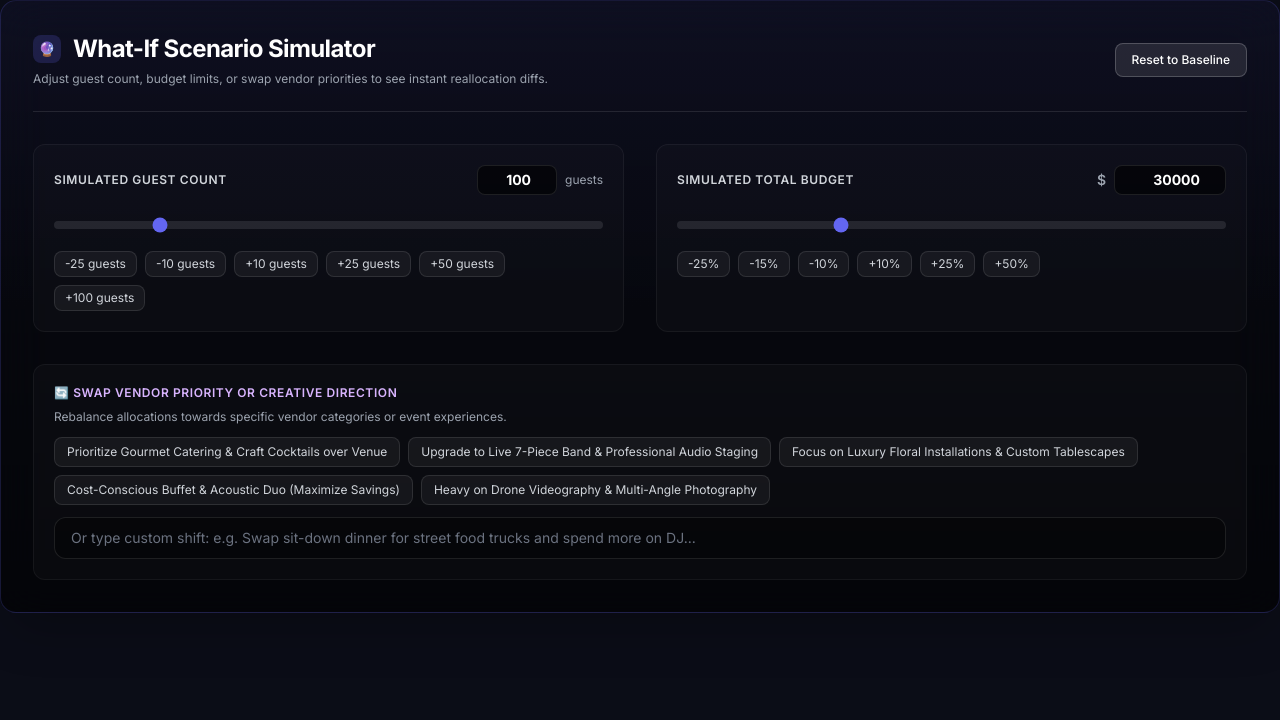
Scenario: WhatIfPanel › adjusts guest count via increment buttons
Click the button "+25 guests" at (369, 264), box [326,251,411,277]
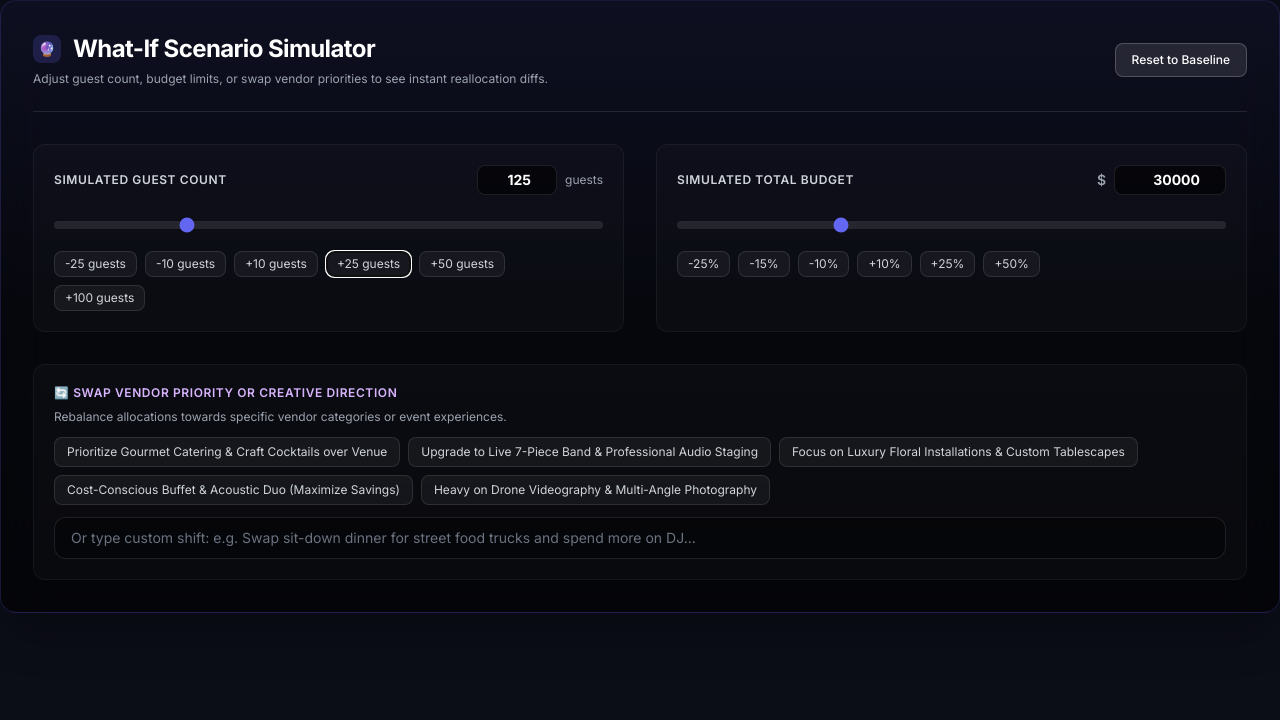
expect the number field named "guest count exact value" holds "125": met, box [477,165,557,195]
